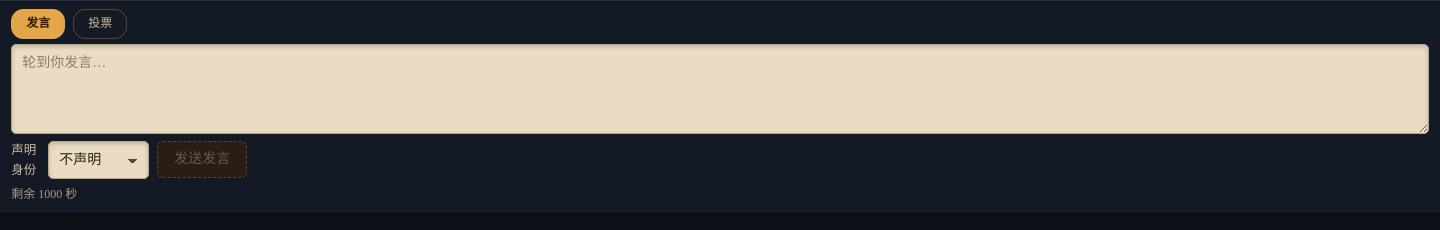
Scenario: ActionBar › 一次只展示一个工具分组
The width and height of the screenshot is (1440, 230).
Expected: the text box named "发言内容" is shown, 11,44 -> 1429,134
Expected: the button "确认投票" is not shown
Click the tab "投票".
click(100, 24)  # box 73,9 -> 127,39
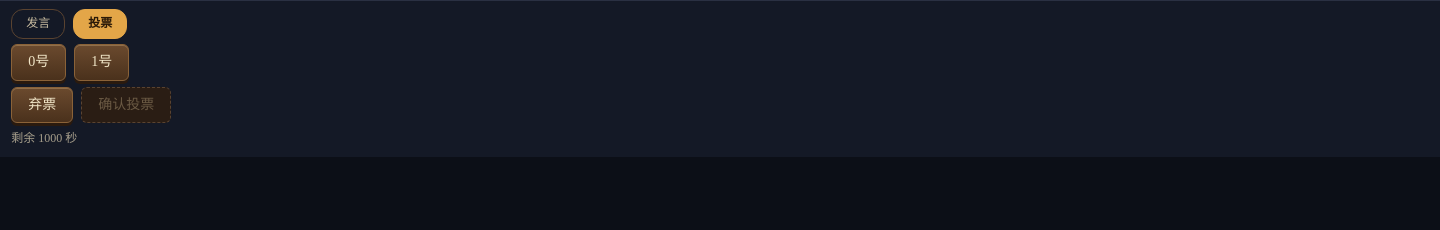
Expected: the text box labelled "发言内容" is gone
Expected: the button "确认投票" is shown, 81,87 -> 171,123
